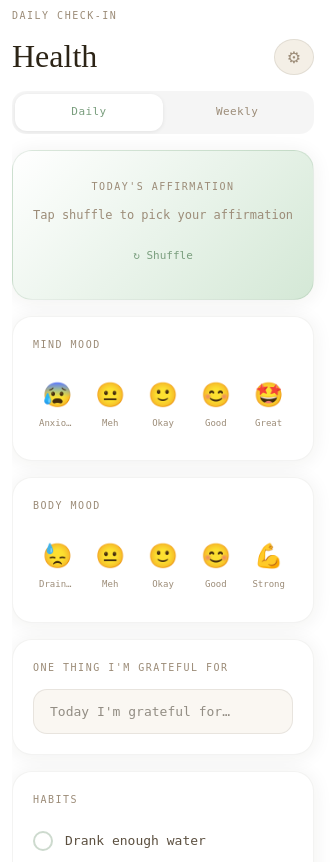
Test: HealthScreen – Settings › shows 'Show' for hidden default habits
The width and height of the screenshot is (332, 862).
Click the button "⚙": click(294, 57) [274,39,314,75]
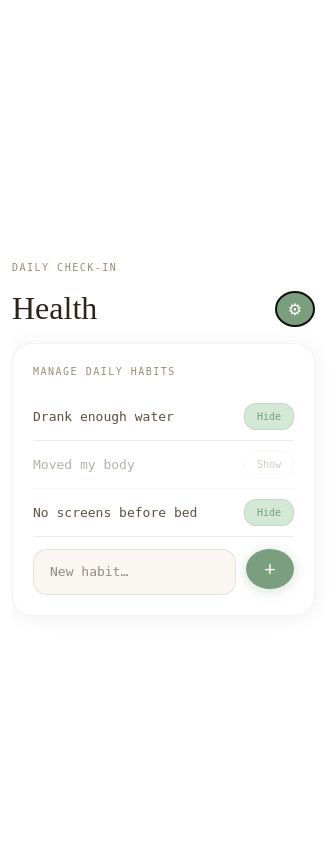
Expected: the number of buttons "Hide" is 2, [244,403,294,430]; [244,499,294,526]
Expected: the button "Show" is shown, [244,451,294,478]
